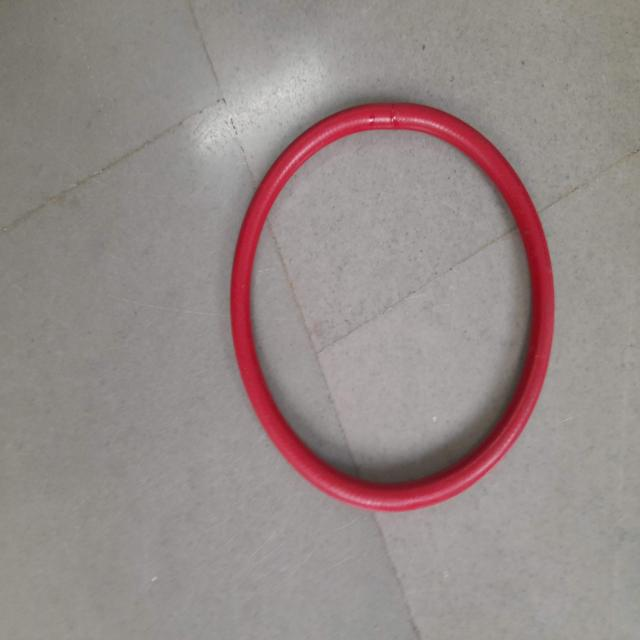daire: (232, 101, 556, 513)
